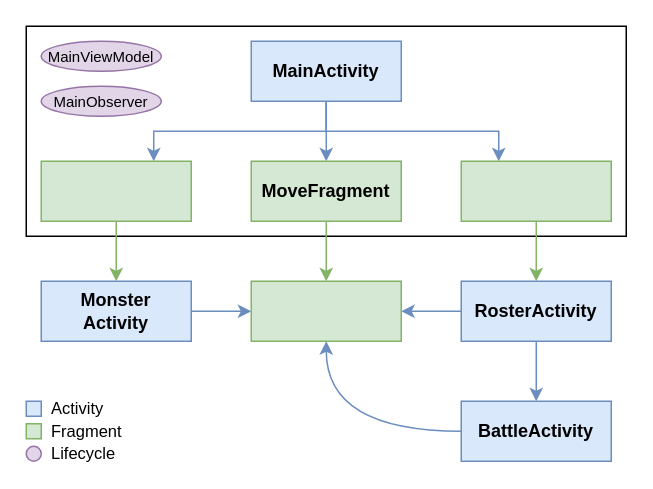
Some shapes in this 653 by 489 pixel diagram are drawn without their labels. The shapes that lost their labels are listed below. From the top down, each one's centre as x and y in pixels, then its label:
At [115,190]: "Monster Fragment".
At [535,190]: "Roster Fragment".
At [325,310]: "MoveDialog Fragment".
